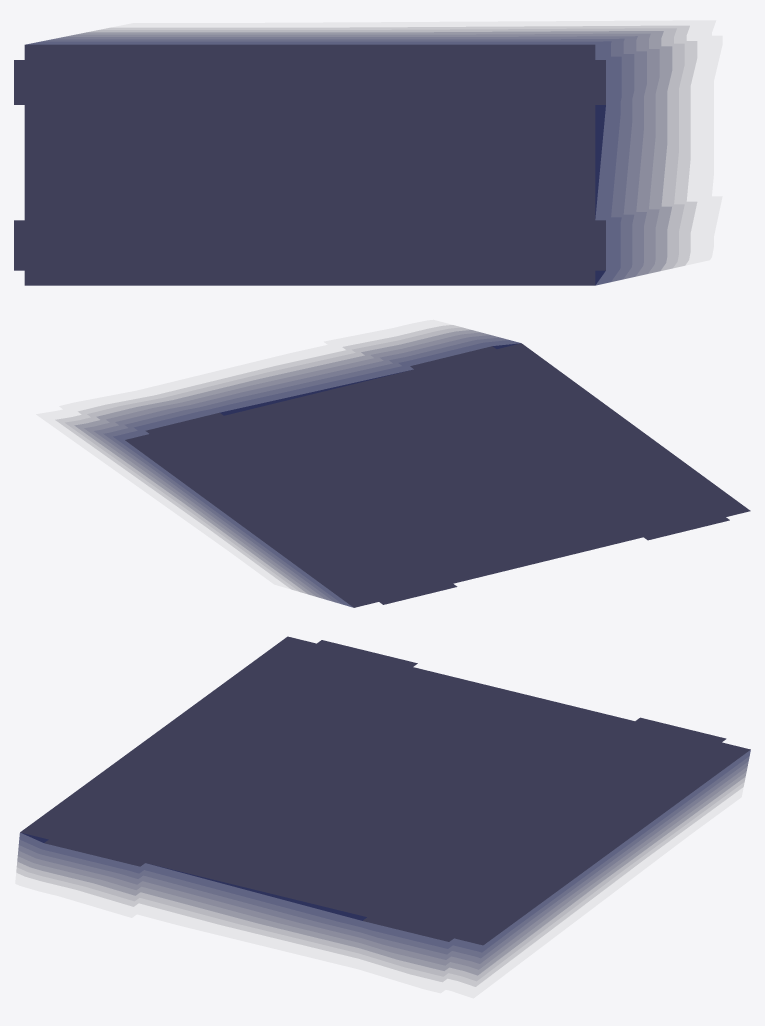
3 views of the same model, one above another, from view 1: azimuth 30°, elevation 25°; view 2: azimuth 150°, elevation 25°; view 3: azimuth 270°, elevation 25° (orthographic). The views are drawn at different scales.
Parts seen in each view (by area): view 1: Joint_0_Object_0; view 2: Joint_0_Object_0; view 3: Joint_0_Object_0.
Part boxes in pixels (x1,y1,x2,y2): Joint_0_Object_0: [14, 26, 696, 285]; Joint_0_Object_0: [56, 325, 750, 607]; Joint_0_Object_0: [17, 636, 750, 986].
Size of the model in its own units: 1249 by 0 by 1037.
Materials: 1 (1 with a texture image).
